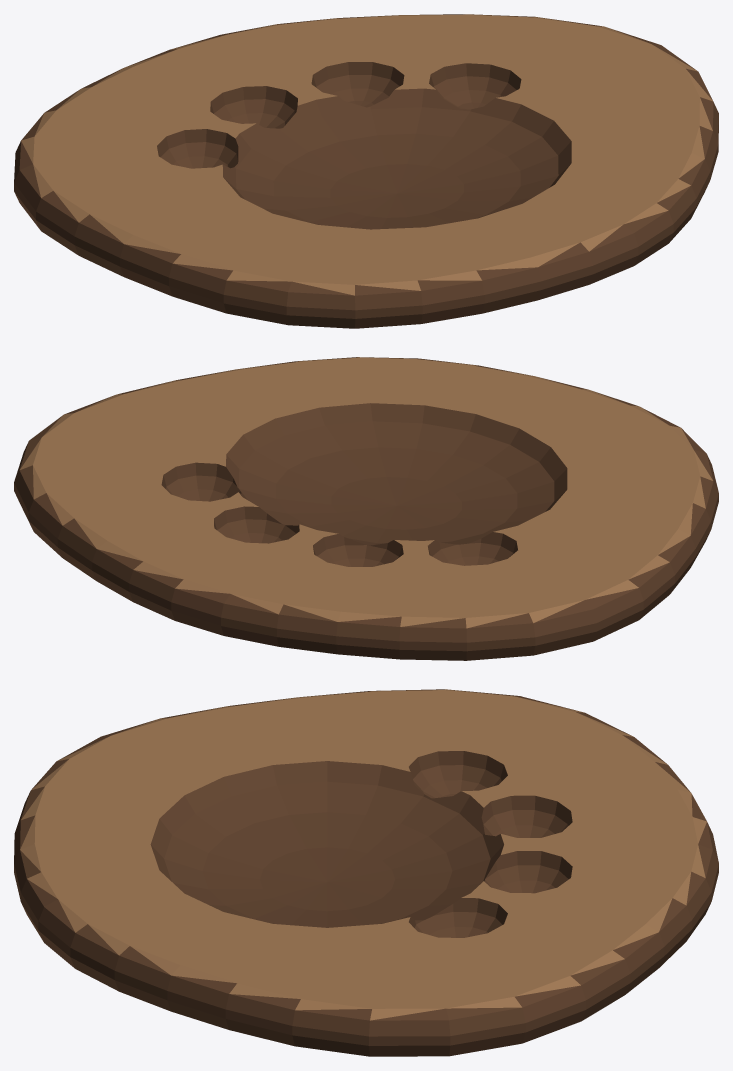
File: pegada-triceratopo.glb
3 renders of one model, top to bottom at view 1: azimuth 30°, elevation 25°; view 2: azimuth 150°, elevation 25°; view 3: azimuth 270°, elevation 25°, orthographic. The views are drawn at different scales.
Parts seen in each view (by area): view 1: pegada-triceratopo; view 2: pegada-triceratopo; view 3: pegada-triceratopo.
Part boxes in pixels (x1,y1,x2,y2): pegada-triceratopo: [14, 14, 718, 328]; pegada-triceratopo: [14, 357, 718, 660]; pegada-triceratopo: [14, 689, 718, 1056].
Size of the model in its own units: 0.7658 by 0.05 by 0.6781.
